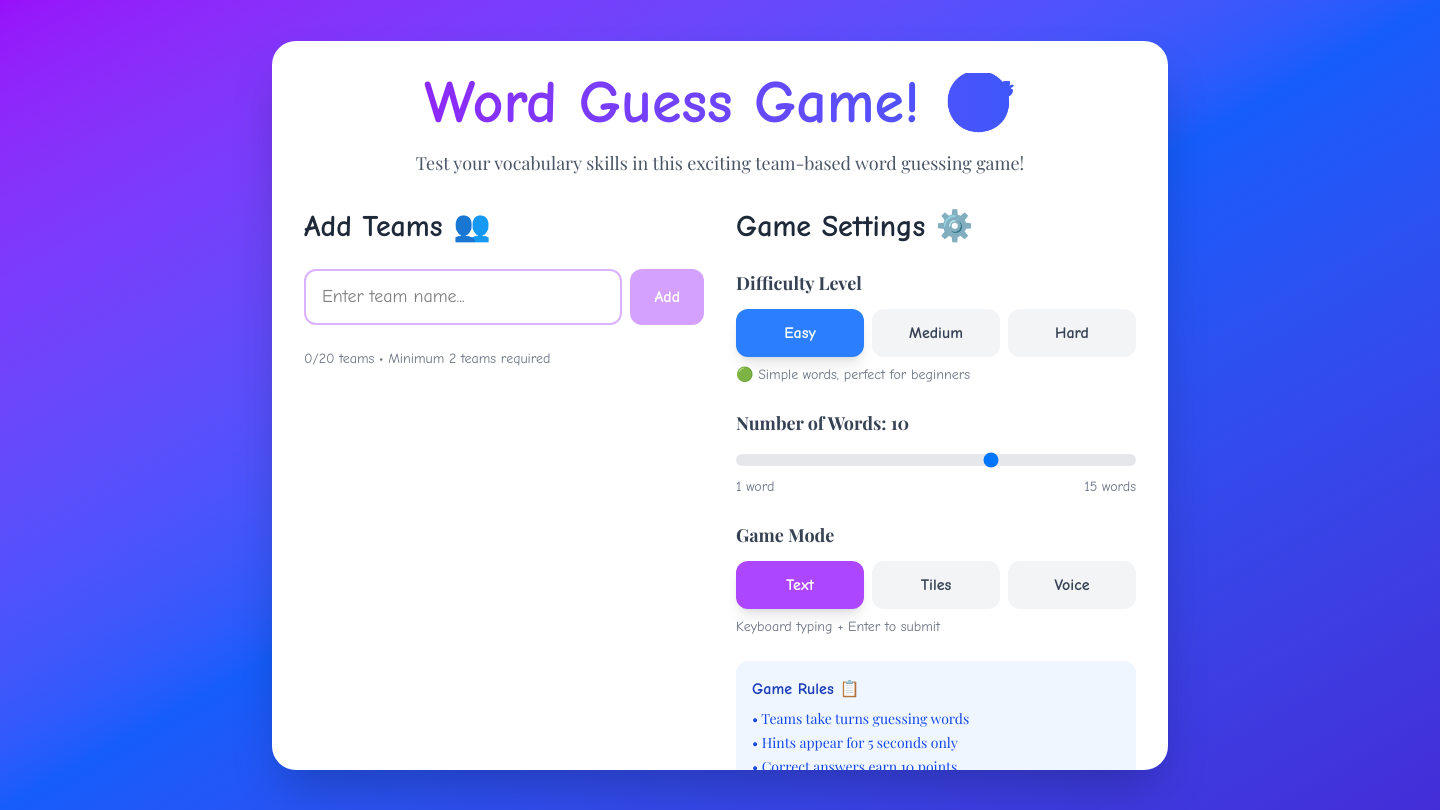
Scenario: StartScreen › allows removing a team
This screenshot has width=1440, height=810.
Note: Add team
Type "Team Alpha" into the field with placeholder "Enter team name..." at (463, 296), box [304,268,622,324]
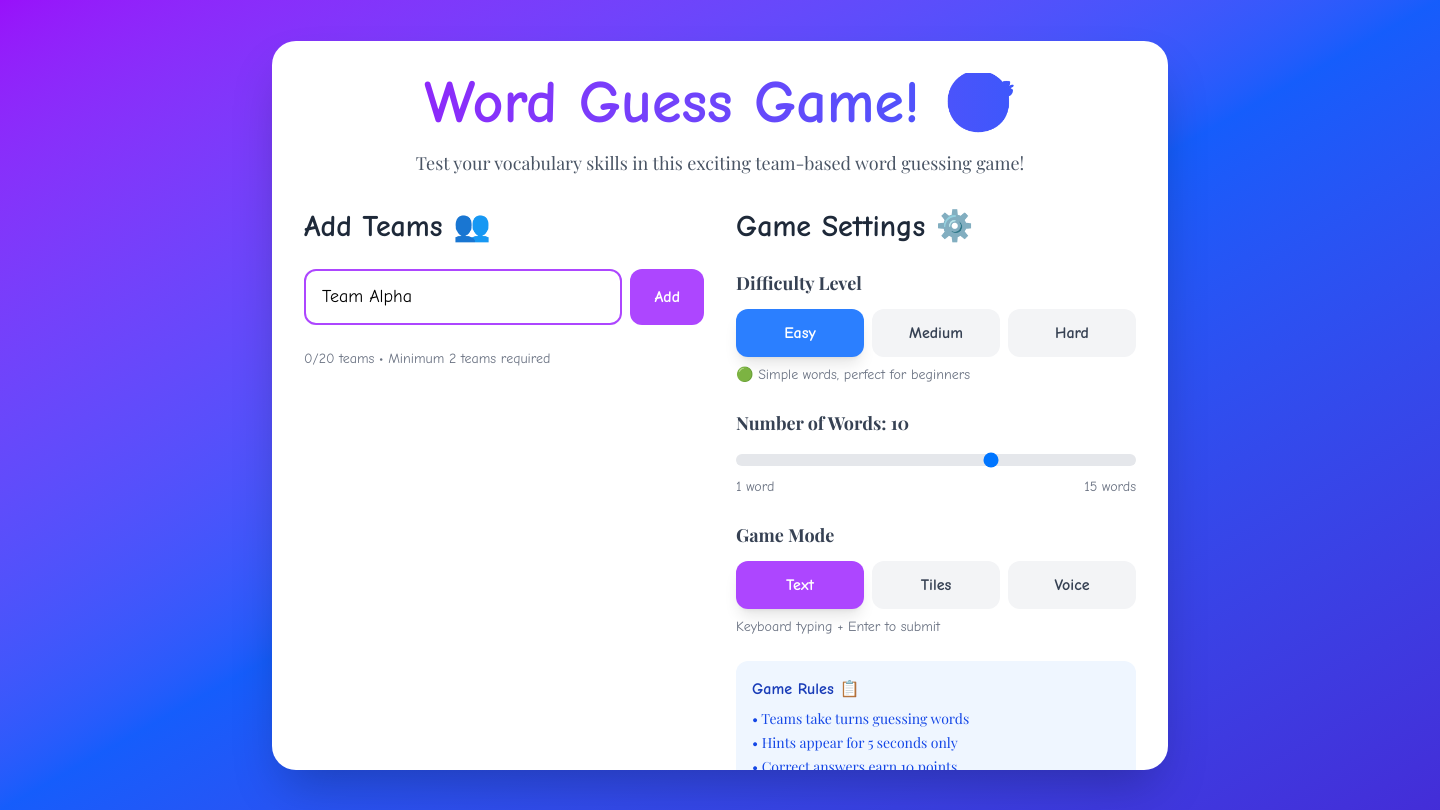
Click the button "Add" at (667, 296), box [630,268,704,324]
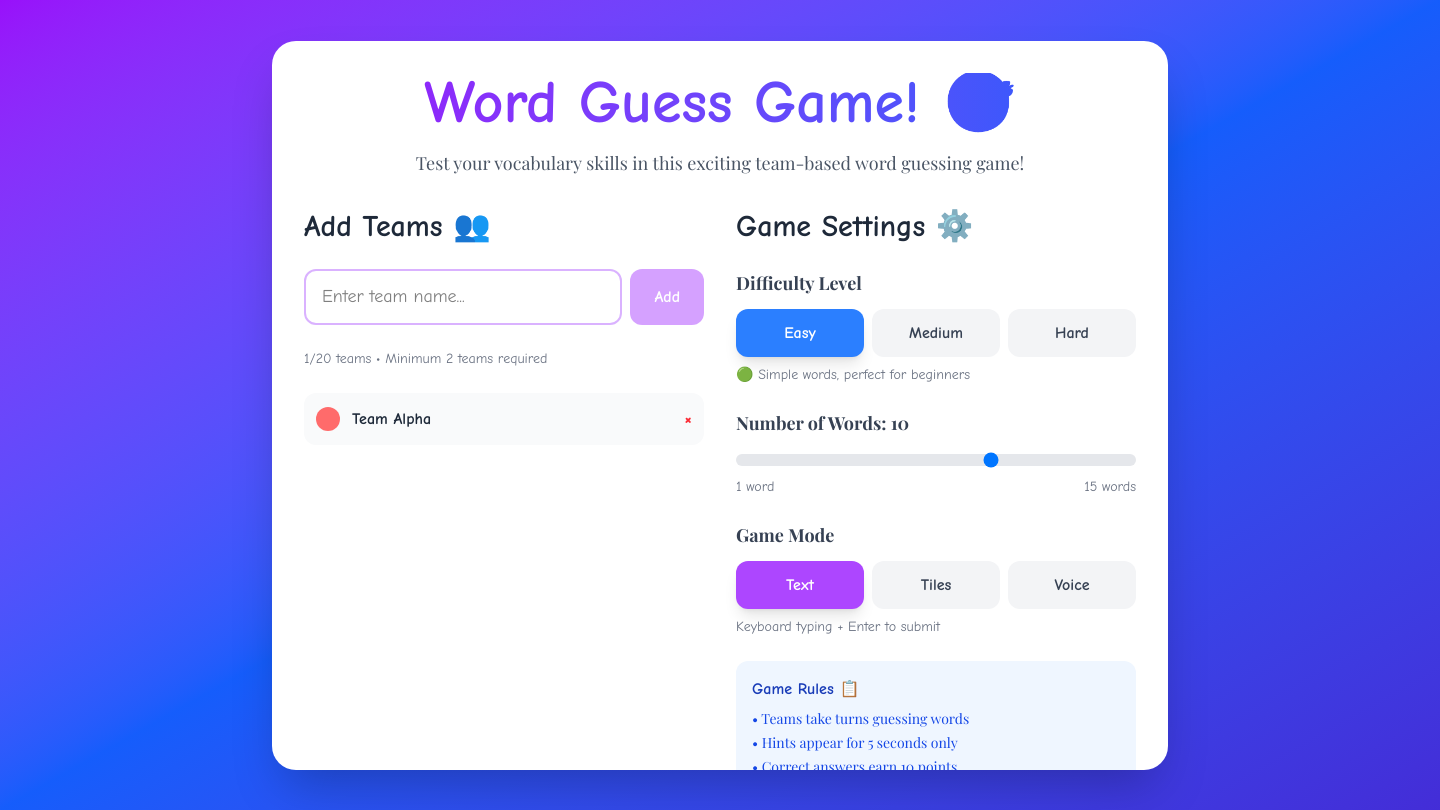
Note: Remove team
Click the button "×" at (688, 418), box [684,404,692,432]
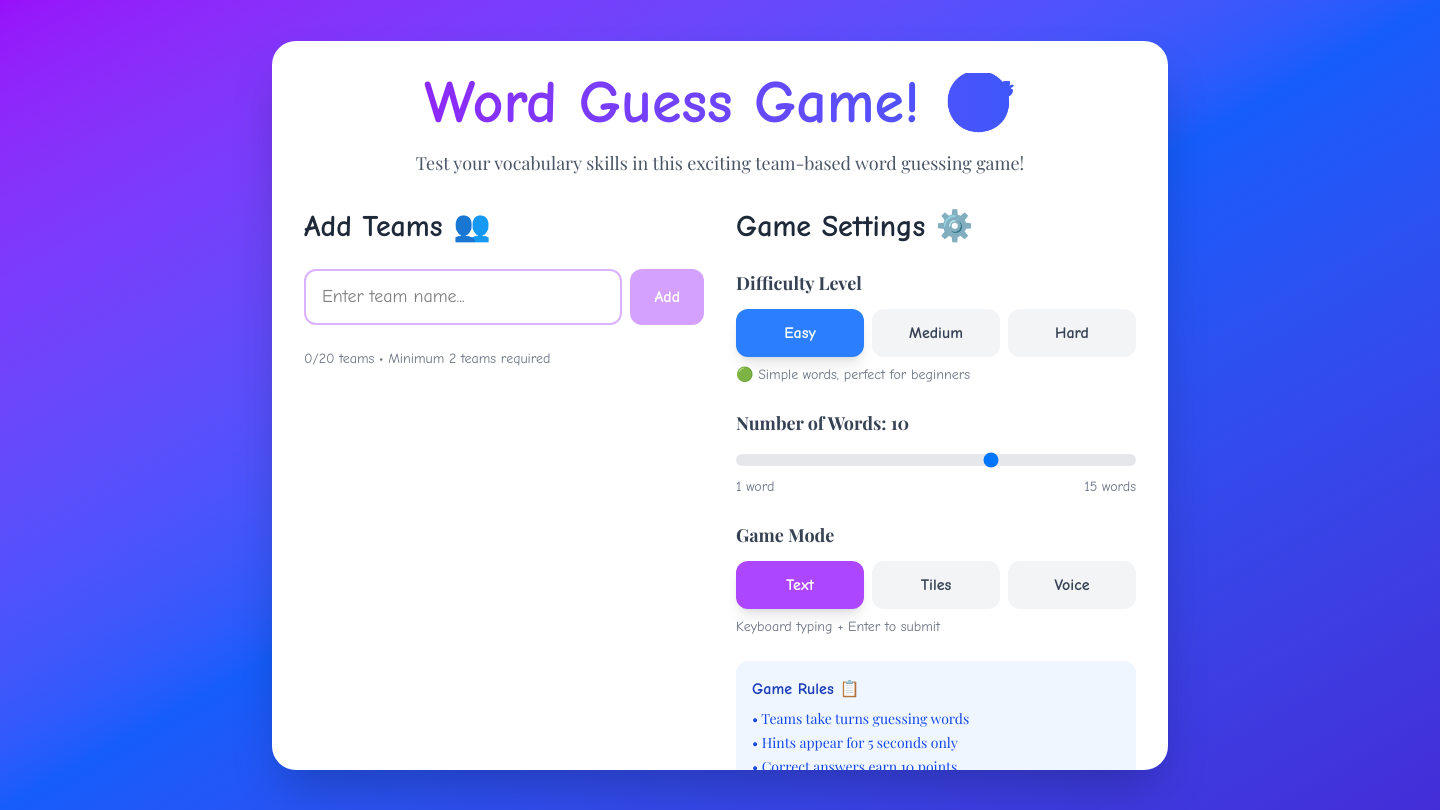
Check: the text "Team Alpha" is gone
